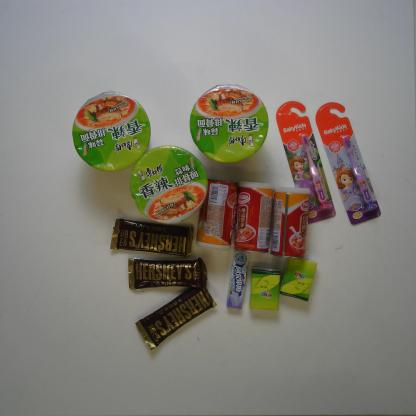Candy: (226, 249, 249, 310)
Canned Food: (195, 176, 238, 251), (269, 185, 311, 259), (233, 179, 273, 254)
Chocolate: (134, 282, 217, 352), (108, 216, 194, 259), (128, 254, 208, 291)
Instant Noodles: (189, 83, 270, 166), (71, 90, 150, 173), (130, 143, 209, 225)
Personal Hygiene: (314, 101, 382, 227), (274, 100, 336, 225)
Tissue: (279, 257, 318, 303), (249, 265, 281, 313)
